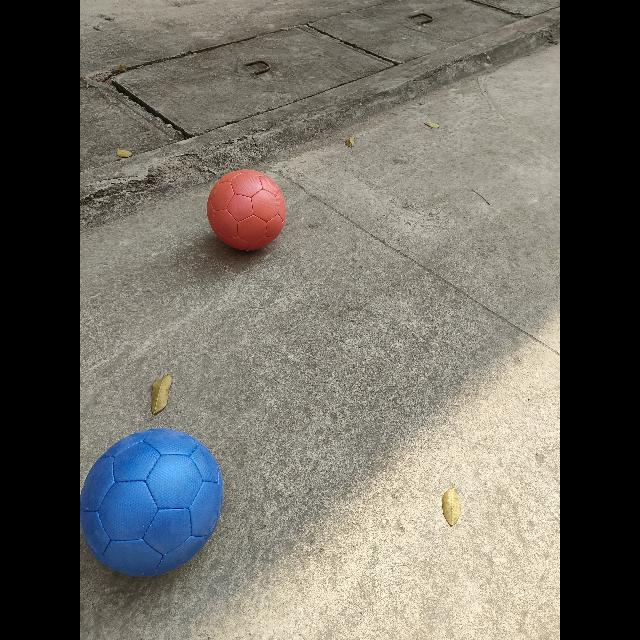B: (80, 429, 222, 576)
R: (208, 170, 286, 250)
